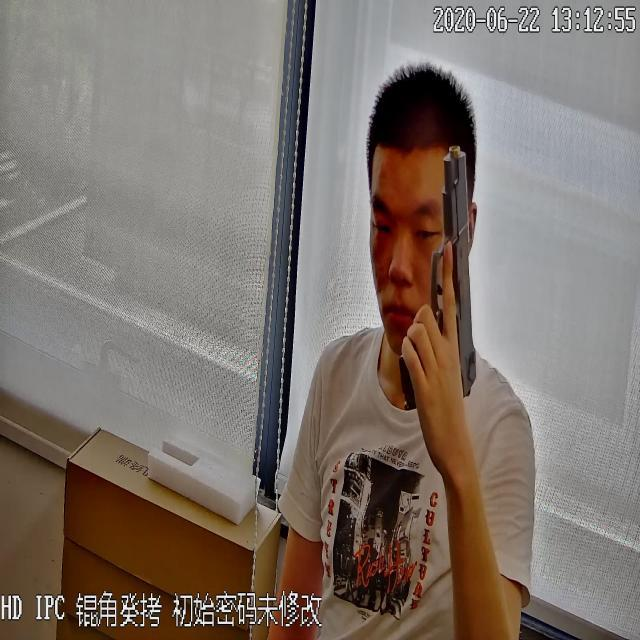gun-knife-thesis - v11 Yolov5 augmented: (402, 138, 479, 405)
